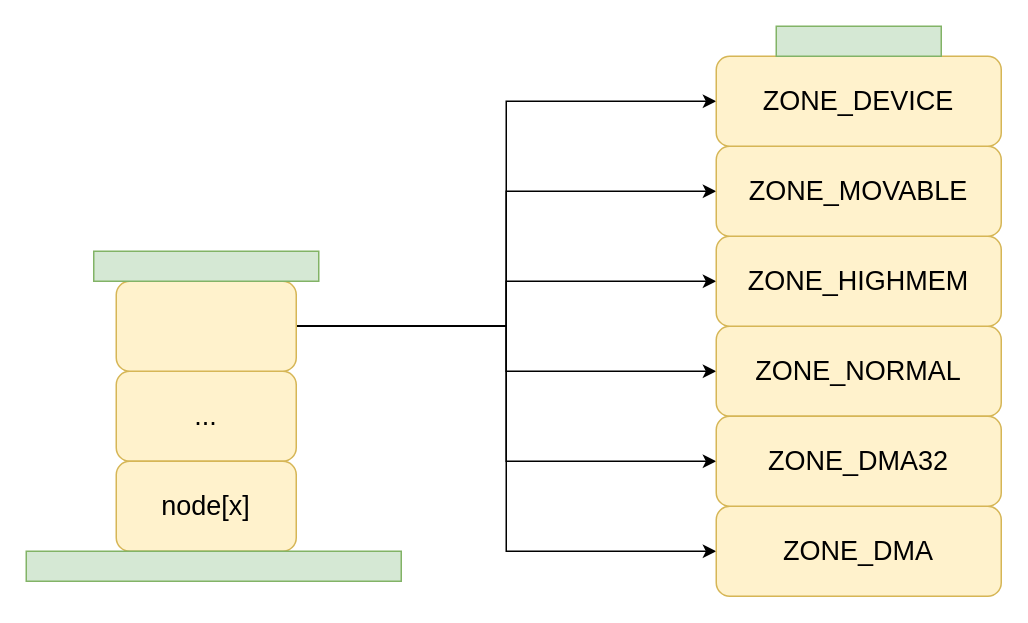
This 1028x623 diagram has some shape labels left out. The box of each missing label's shape, as (x1, y1, x2, y2) in pixels:
node[0]: (115, 280, 296, 371)
一个内存节点，对于UMA架构只有一个node: (25, 550, 401, 581)
对应数据结构pglist_data: (92, 250, 319, 281)
对应数据结构zone: (775, 25, 941, 56)
